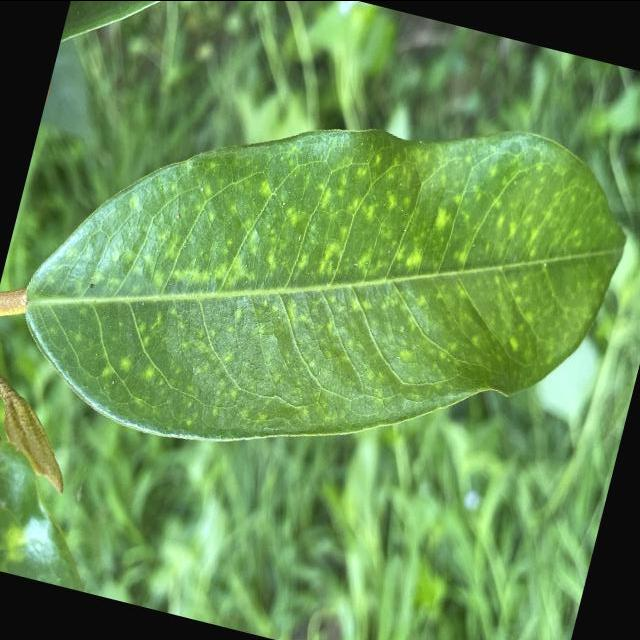Leaf Spot: (0, 12, 639, 540)
